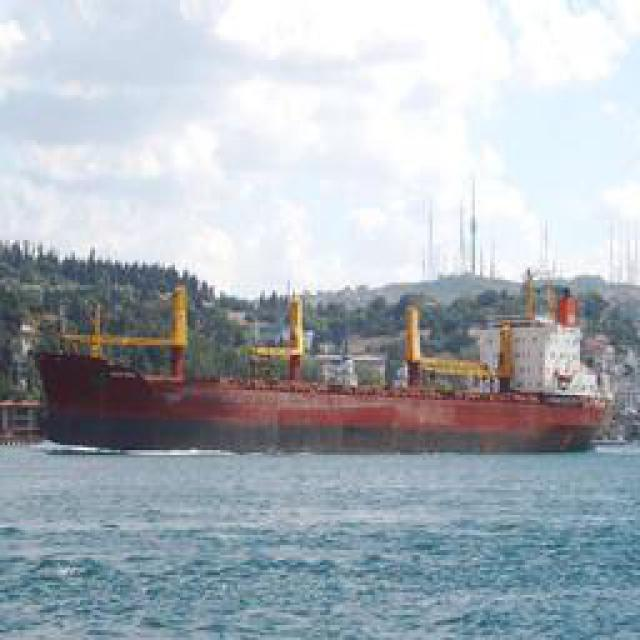Ship: (30, 262, 605, 456)
